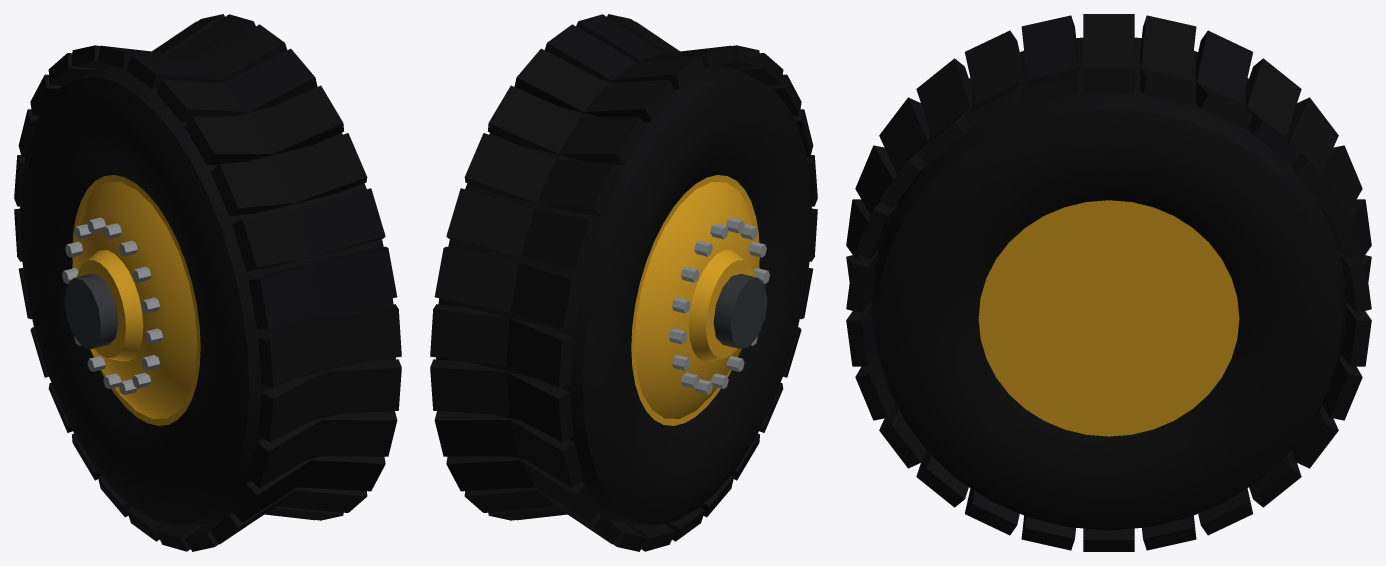
Rendered from wheel-haul.glb.
3 renders of one model, left to right at view 1: azimuth 30°, elevation 25°; view 2: azimuth 150°, elevation 25°; view 3: azimuth 270°, elevation 25°, orthographic.
Parts seen in each view (by area): view 1: Piece_lod0; view 2: Piece_lod0; view 3: Piece_lod0.
Boxes of the visible parts, x1,y1,x2,y2 form: Piece_lod0: (14,14,401,551); Piece_lod0: (430,14,817,551); Piece_lod0: (846,14,1371,551).
Size of what is drawn, in the model's own units: 1.06 by 2.25 by 2.26.
